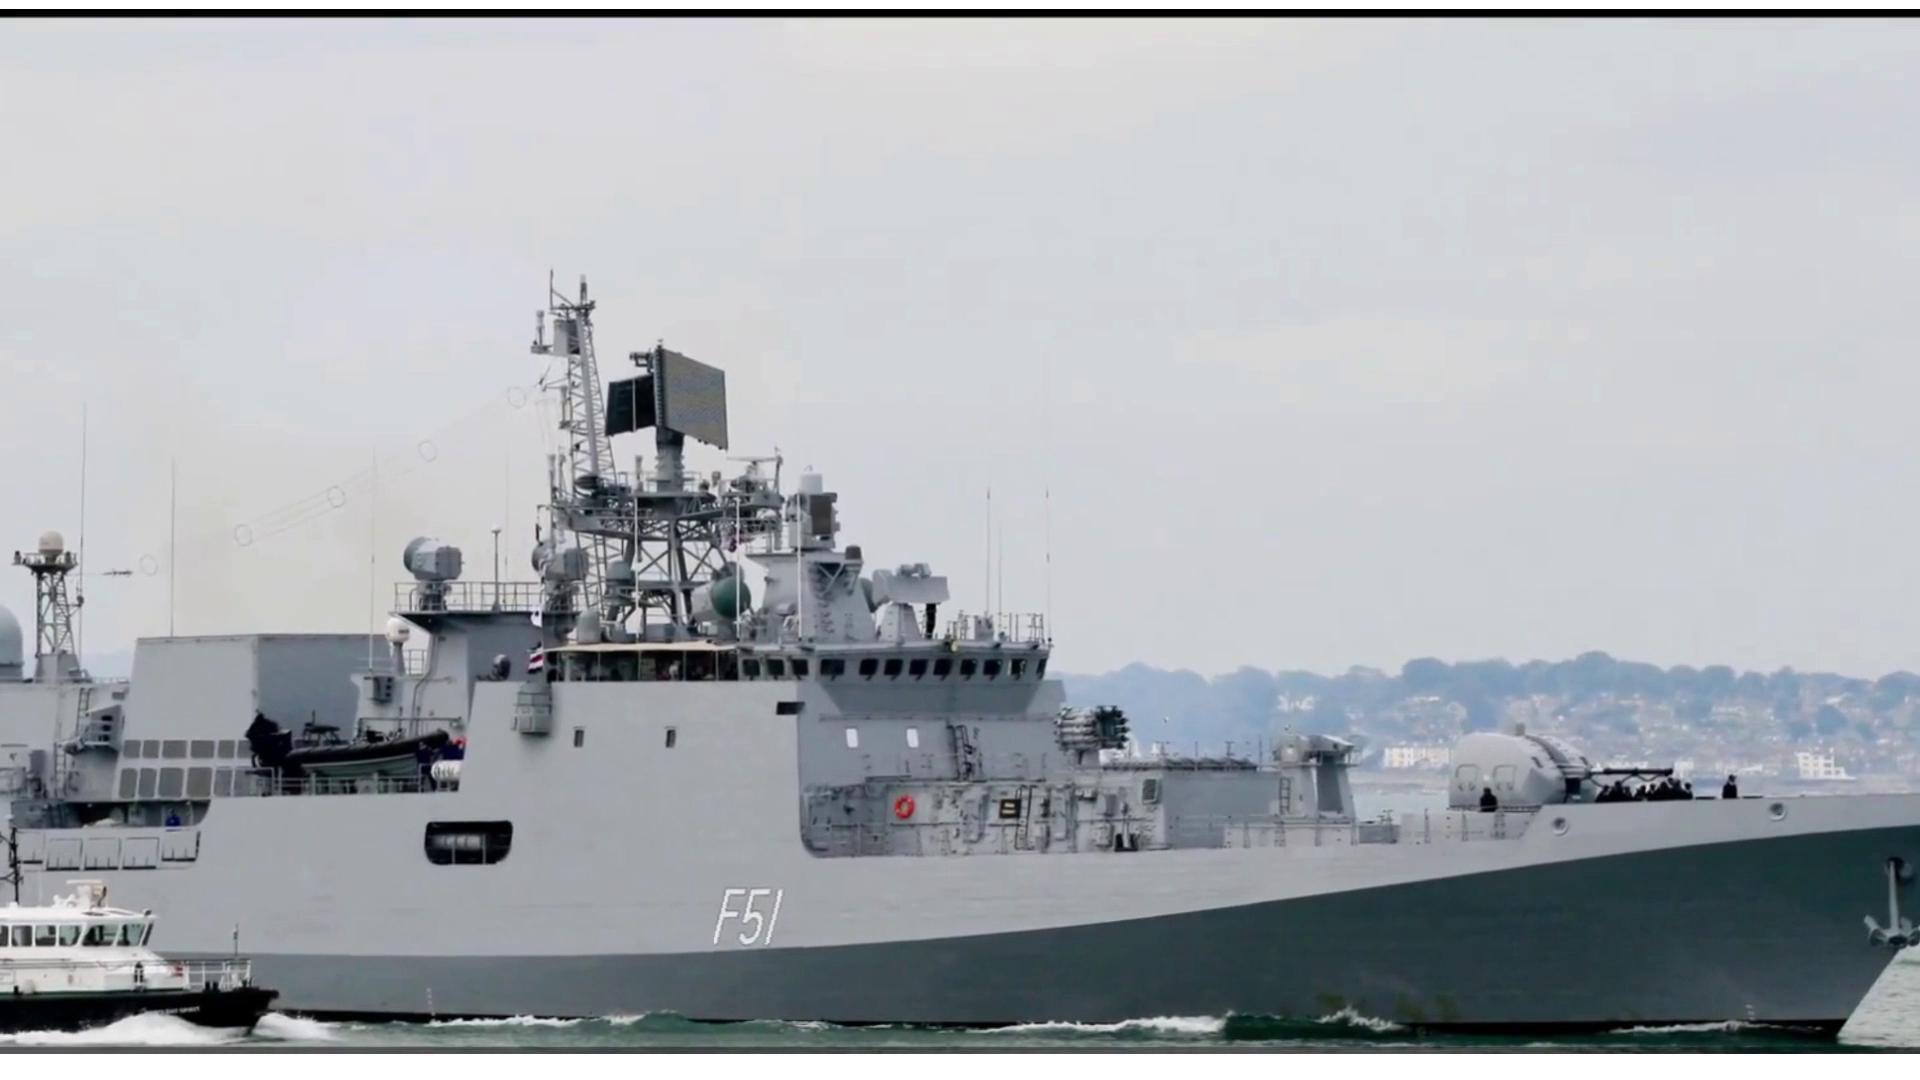OCR: (714, 875, 816, 964)
